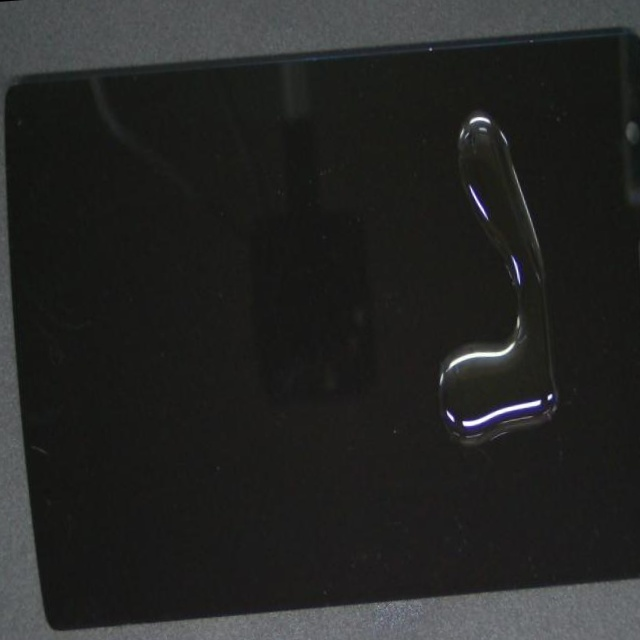oil: (195, 117, 640, 622)
